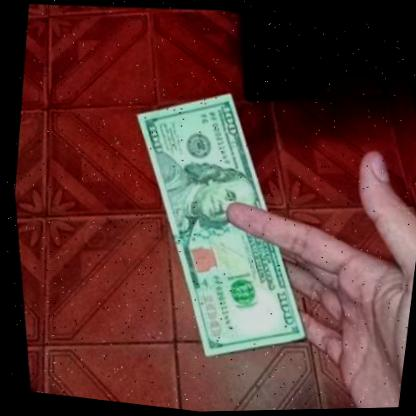one_hundred-front: (94, 62, 341, 386)
